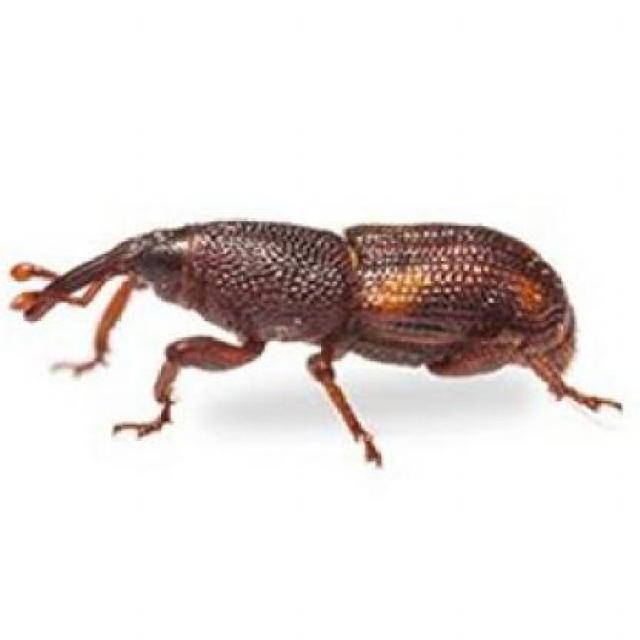rice-bug: (14, 215, 606, 436)
